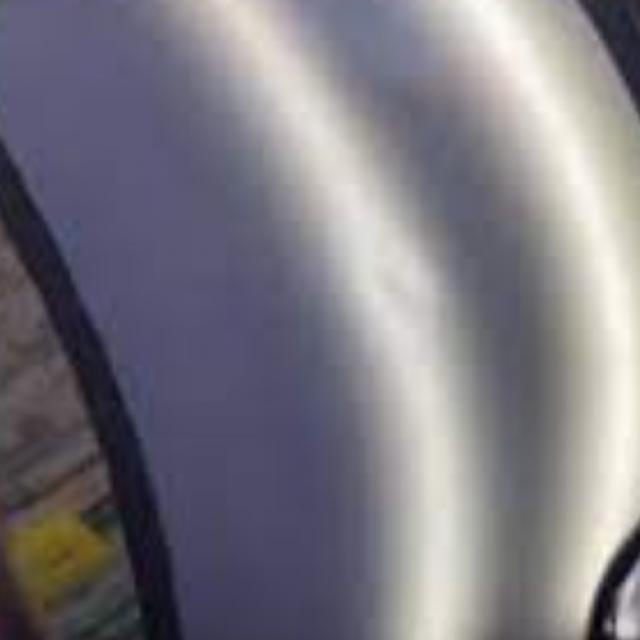dents: (338, 253, 474, 344)
